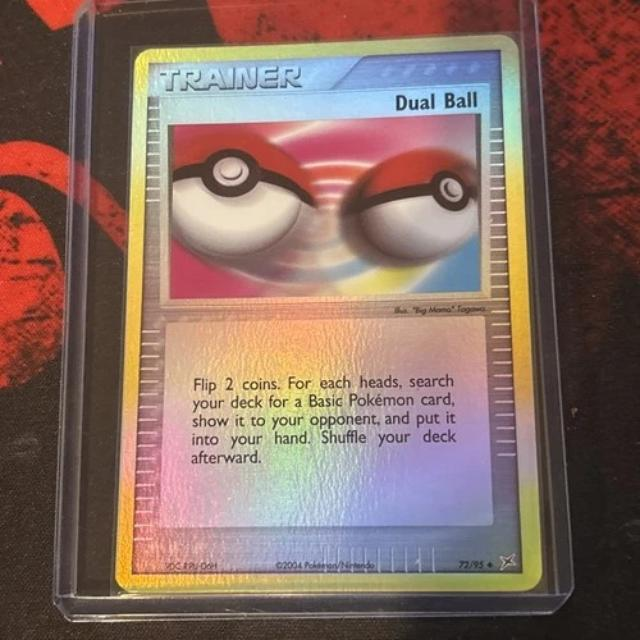Card: (109, 29, 549, 598)
Name: (387, 86, 485, 115)
